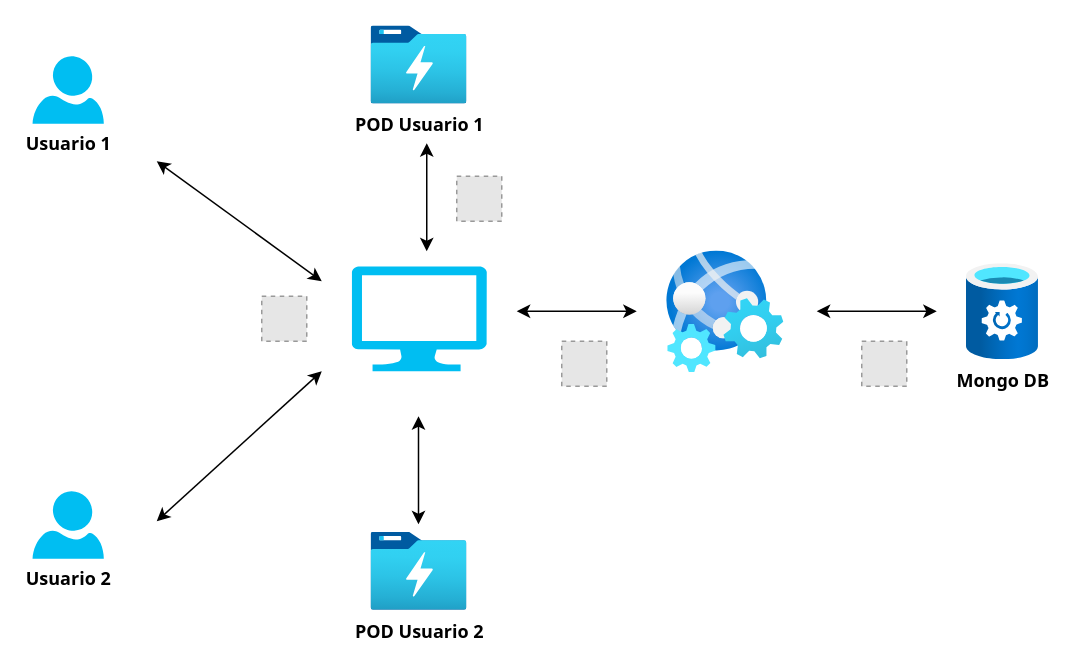
Image size: 1076x668. Some labels were removed from this diagram. Grey dashed boxes stand in for pictures. The centre of each missing label's shape, as x and y in pixels:
RestApi: point (725, 311)
WebApp: point (418, 318)
